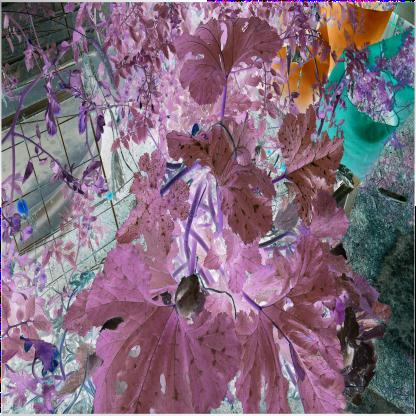squash powdery mildew leaf: (84, 248, 245, 405), (113, 149, 192, 257), (218, 159, 277, 250), (161, 117, 234, 181), (294, 135, 348, 185), (276, 100, 316, 166)
